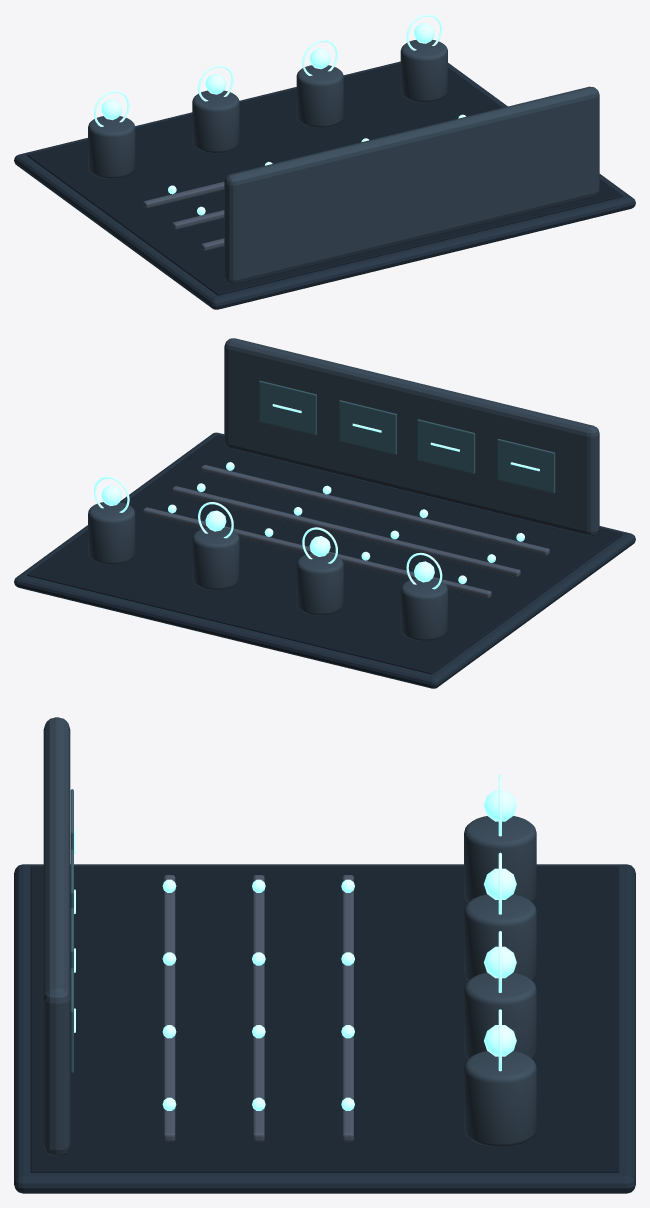
Rendered from automation-lab.glb.
3 views of the same model, one above another, from view 1: azimuth 30°, elevation 25°; view 2: azimuth 150°, elevation 25°; view 3: azimuth 270°, elevation 25° (orthographic). The views are drawn at different scales.
Parts seen in each view (by area): view 1: runtime_wall, inset, platform, agent_pod.001, agent_pod.002, agent_pod.003, agent_pod, data_rail, data_rail.001; view 2: inset, runtime_wall, platform, data_rail.002, data_rail.001, agent_pod.001, agent_pod, agent_pod.003, agent_pod.002, runtime_panel, runtime_panel.001, runtime_panel.002 (+2 smaller); view 3: inset, platform, runtime_wall, agent_pod.003, agent_pod, agent_pod.002, agent_pod.001, data_rail.002, data_rail, data_rail.001, agent_orb.002, agent_orb.001 (+2 smaller).
Part boxes in pixels (x1,y1,x2,y2): runtime_wall: [224, 86, 599, 284]; inset: [27, 63, 622, 295]; platform: [14, 61, 635, 309]; agent_pod.001: [192, 90, 239, 153]; agent_pod.002: [296, 65, 343, 127]; agent_pod.003: [400, 39, 447, 102]; agent_pod: [88, 116, 135, 178]; data_rail: [143, 181, 224, 208]; data_rail.001: [172, 210, 224, 229]; inset: [27, 434, 622, 674]; runtime_wall: [224, 338, 599, 536]; platform: [14, 432, 635, 688]; data_rail.002: [201, 465, 549, 555]; data_rail.001: [172, 486, 520, 577]; agent_pod.001: [296, 553, 343, 615]; agent_pod: [400, 578, 447, 640]; agent_pod.003: [88, 502, 135, 564]; agent_pod.002: [192, 527, 239, 589]; runtime_panel: [497, 439, 555, 493]; runtime_panel.001: [417, 419, 475, 473]; runtime_panel.002: [339, 400, 396, 454]; inset: [30, 866, 619, 1172]; platform: [14, 864, 635, 1193]; runtime_wall: [43, 717, 70, 1155]; agent_pod.003: [464, 1051, 536, 1147]; agent_pod: [464, 816, 536, 902]; agent_pod.002: [464, 972, 536, 1058]; agent_pod.001: [464, 894, 536, 980]; data_rail.002: [163, 875, 175, 1141]; data_rail: [342, 875, 353, 1141]; data_rail.001: [253, 875, 264, 1141]; agent_orb.002: [484, 946, 516, 978]; agent_orb.001: [484, 868, 516, 899].
Size of the model in its own units: 11.4 by 3.07 by 9.4.
